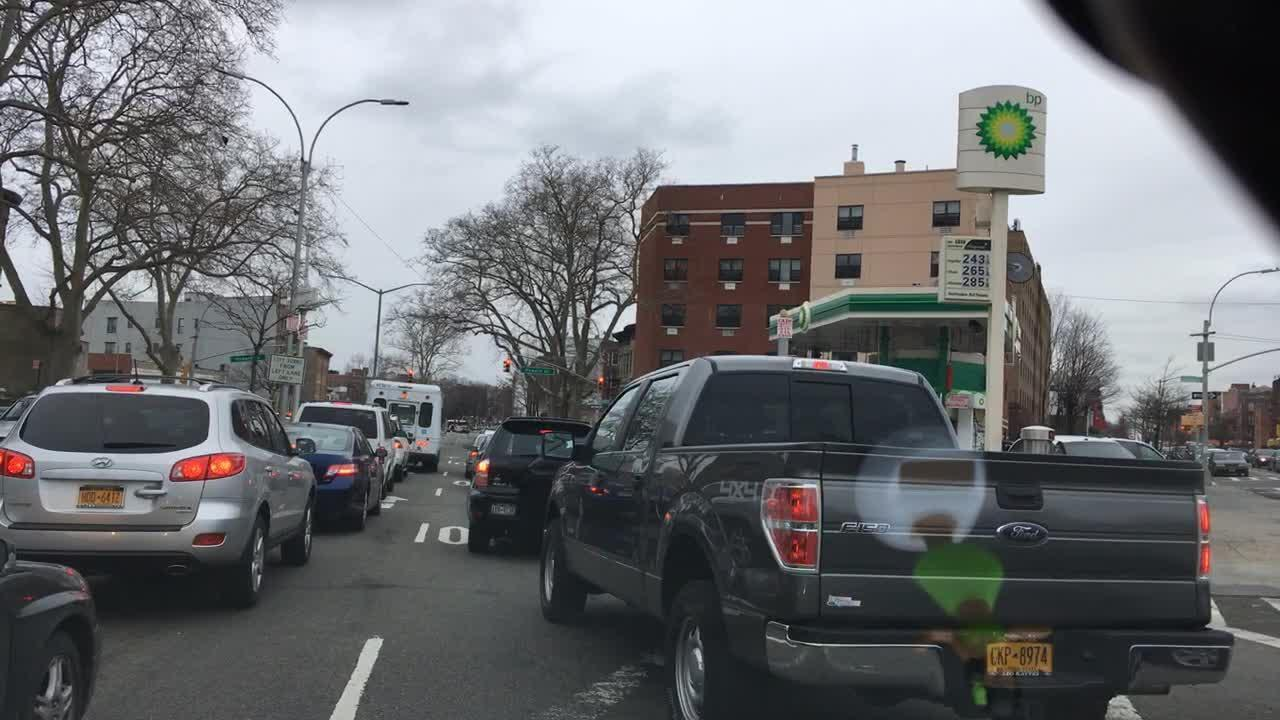Hyundai: (82, 454, 122, 470)
ford: (986, 513, 1068, 553)
